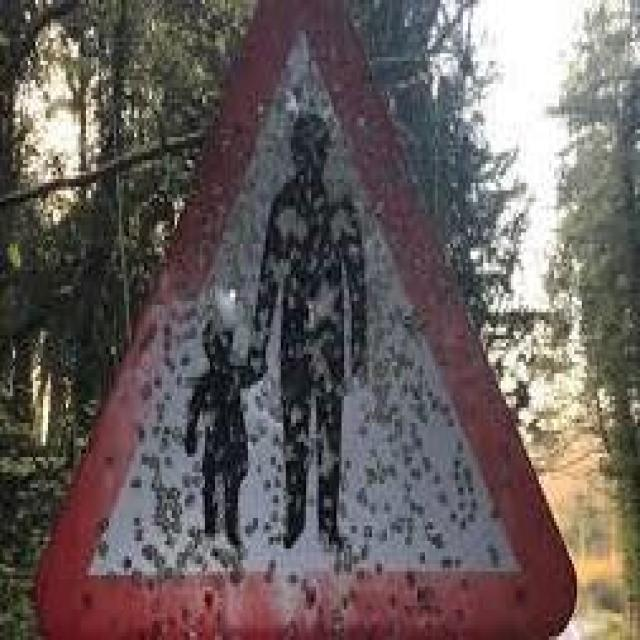obstructed_road_sign: (38, 0, 576, 640)
